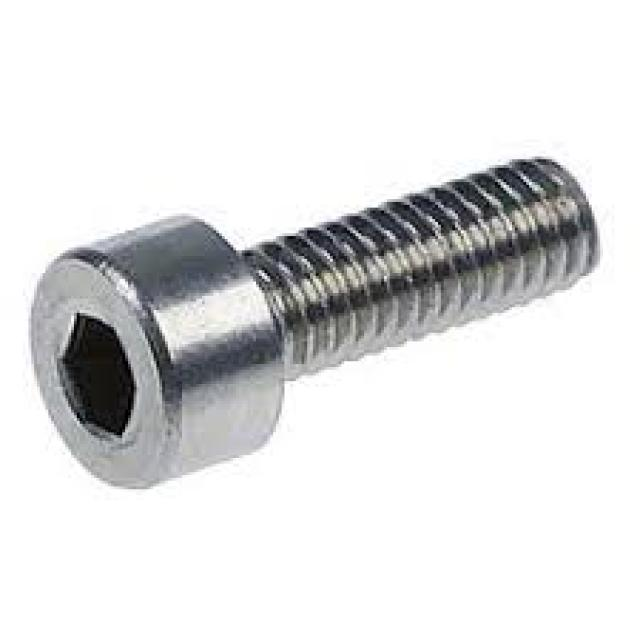Hex Socket Allen: (27, 252, 172, 490)
